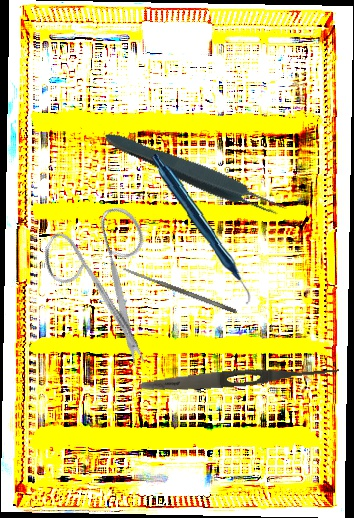Dressing Forceps: (139, 360, 340, 396)
Handpiece: (146, 154, 256, 305)
Iris Scissors: (15, 183, 208, 373)
Spatula Surgical: (121, 265, 238, 315)
Tissue Forceps: (99, 124, 291, 226)
